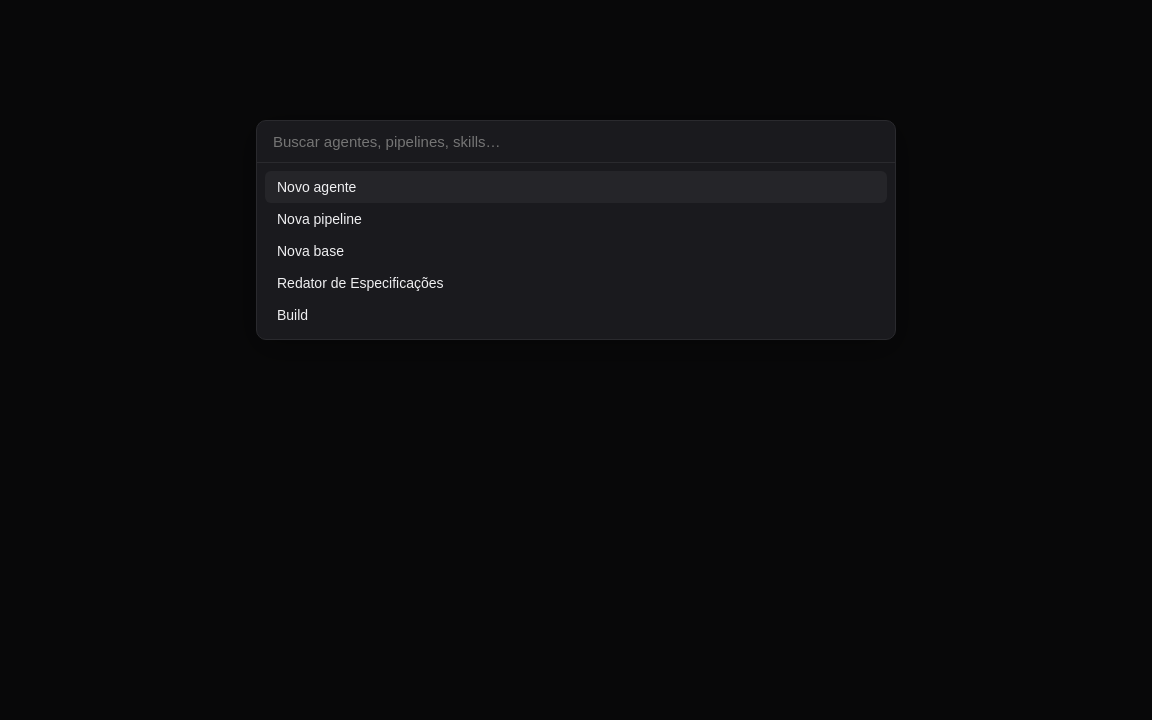
it: CommandPalette › sem resultados mostra 'Nada encontrado' e mantém as ações de criar
Type "zzz" into the field with placeholder "Buscar agentes, pipelines, skills…".
click(576, 142); type("zzz")  # box [257, 121, 895, 163]
Wait 200 ms
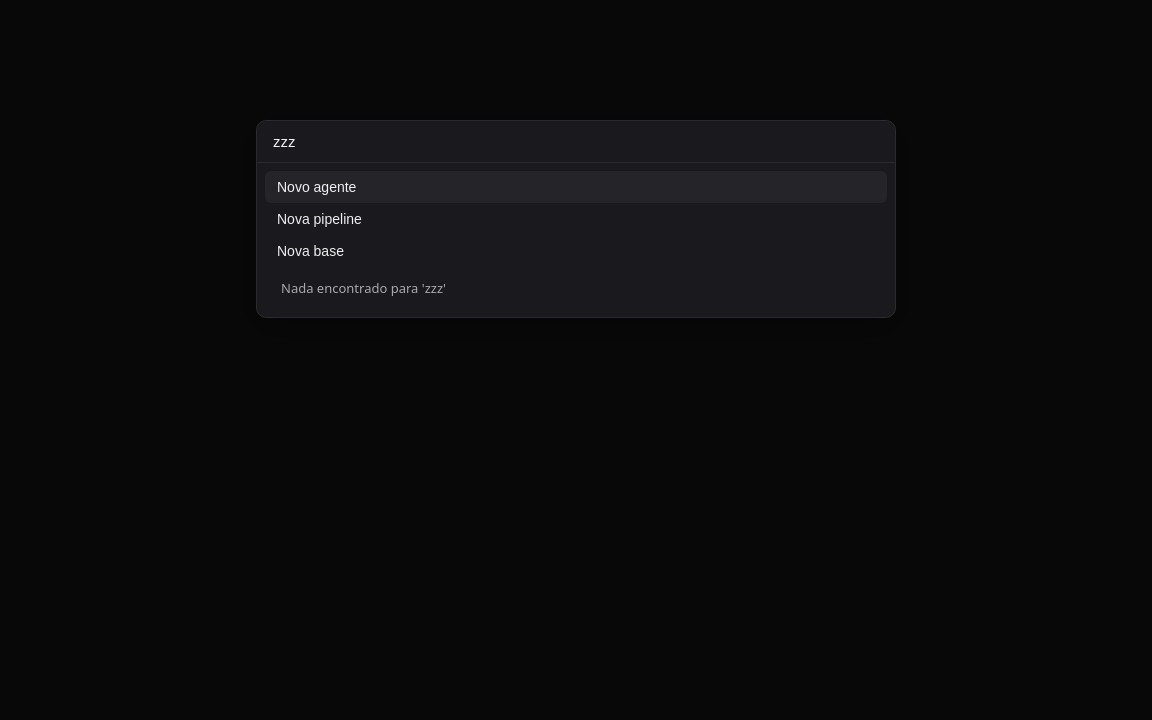
Expected: the button "Novo agente" is shown, [265, 171, 887, 203]
Now the text "Nada encontrado para 'zzz'" is shown, box [281, 279, 446, 297]
